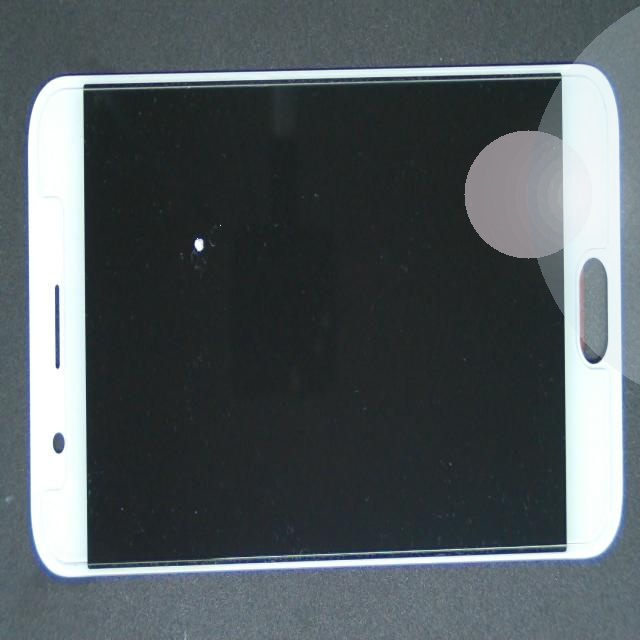stain: (89, 140, 269, 420)
